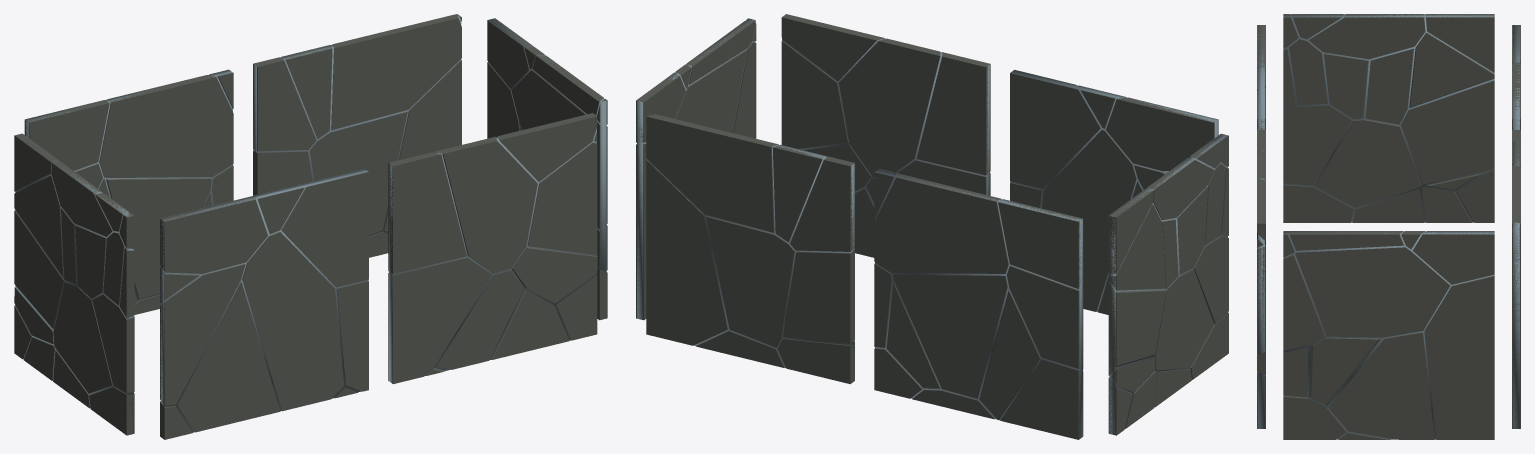
File: BoxStone.fbx
3 renders of one model, left to right at view 1: azimuth 30°, elevation 25°; view 2: azimuth 150°, elevation 25°; view 3: azimuth 270°, elevation 25°, orthographic. The views are drawn at different scales.
Parts seen in each view (by area): view 1: BoxStoneN; view 2: BoxStoneN; view 3: BoxStoneN.
Part boxes in pixels (<box>): BoxStoneN: <box>14,14,607,439</box>; BoxStoneN: <box>636,14,1228,439</box>; BoxStoneN: <box>1257,14,1520,439</box>.
Bounding box in the file's own units: 600 × 303 × 260.
